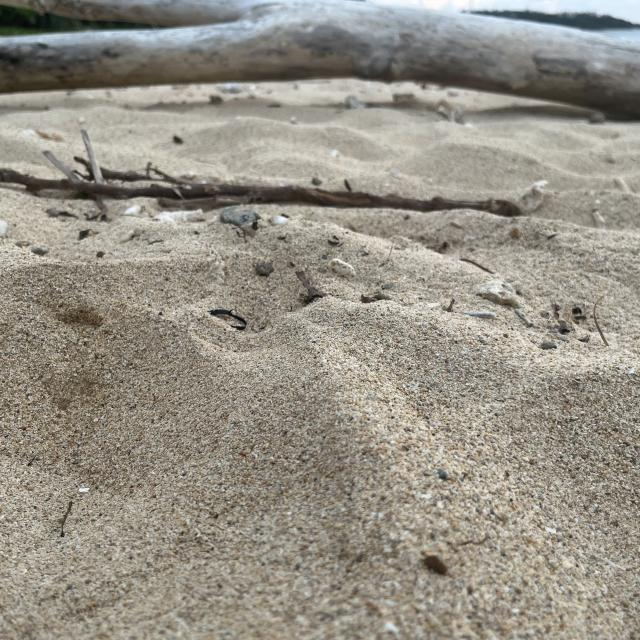stick: (0, 145, 558, 234)
